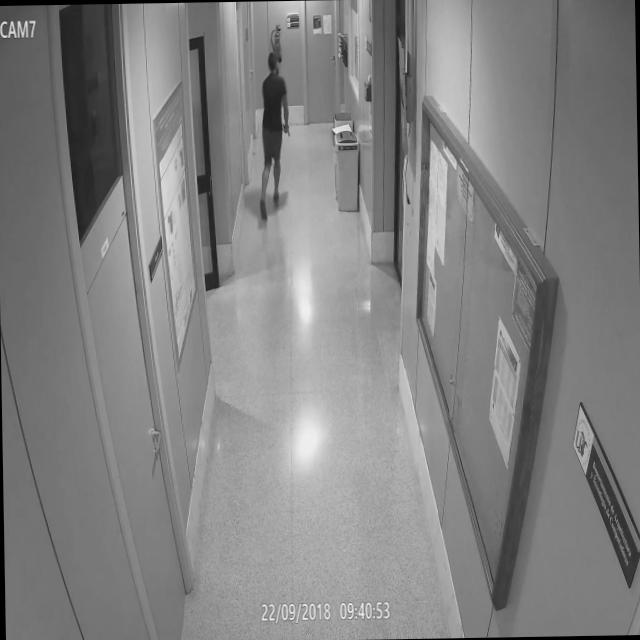gun: (280, 114, 291, 141)
person with a gun: (250, 49, 292, 225)
